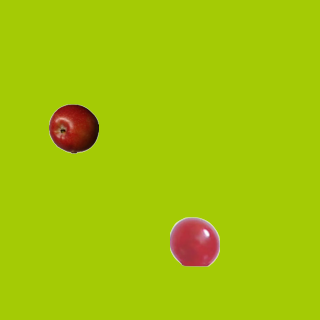Apple Braeburn: (48, 103, 98, 153)
Redcurrant: (169, 216, 219, 266)
